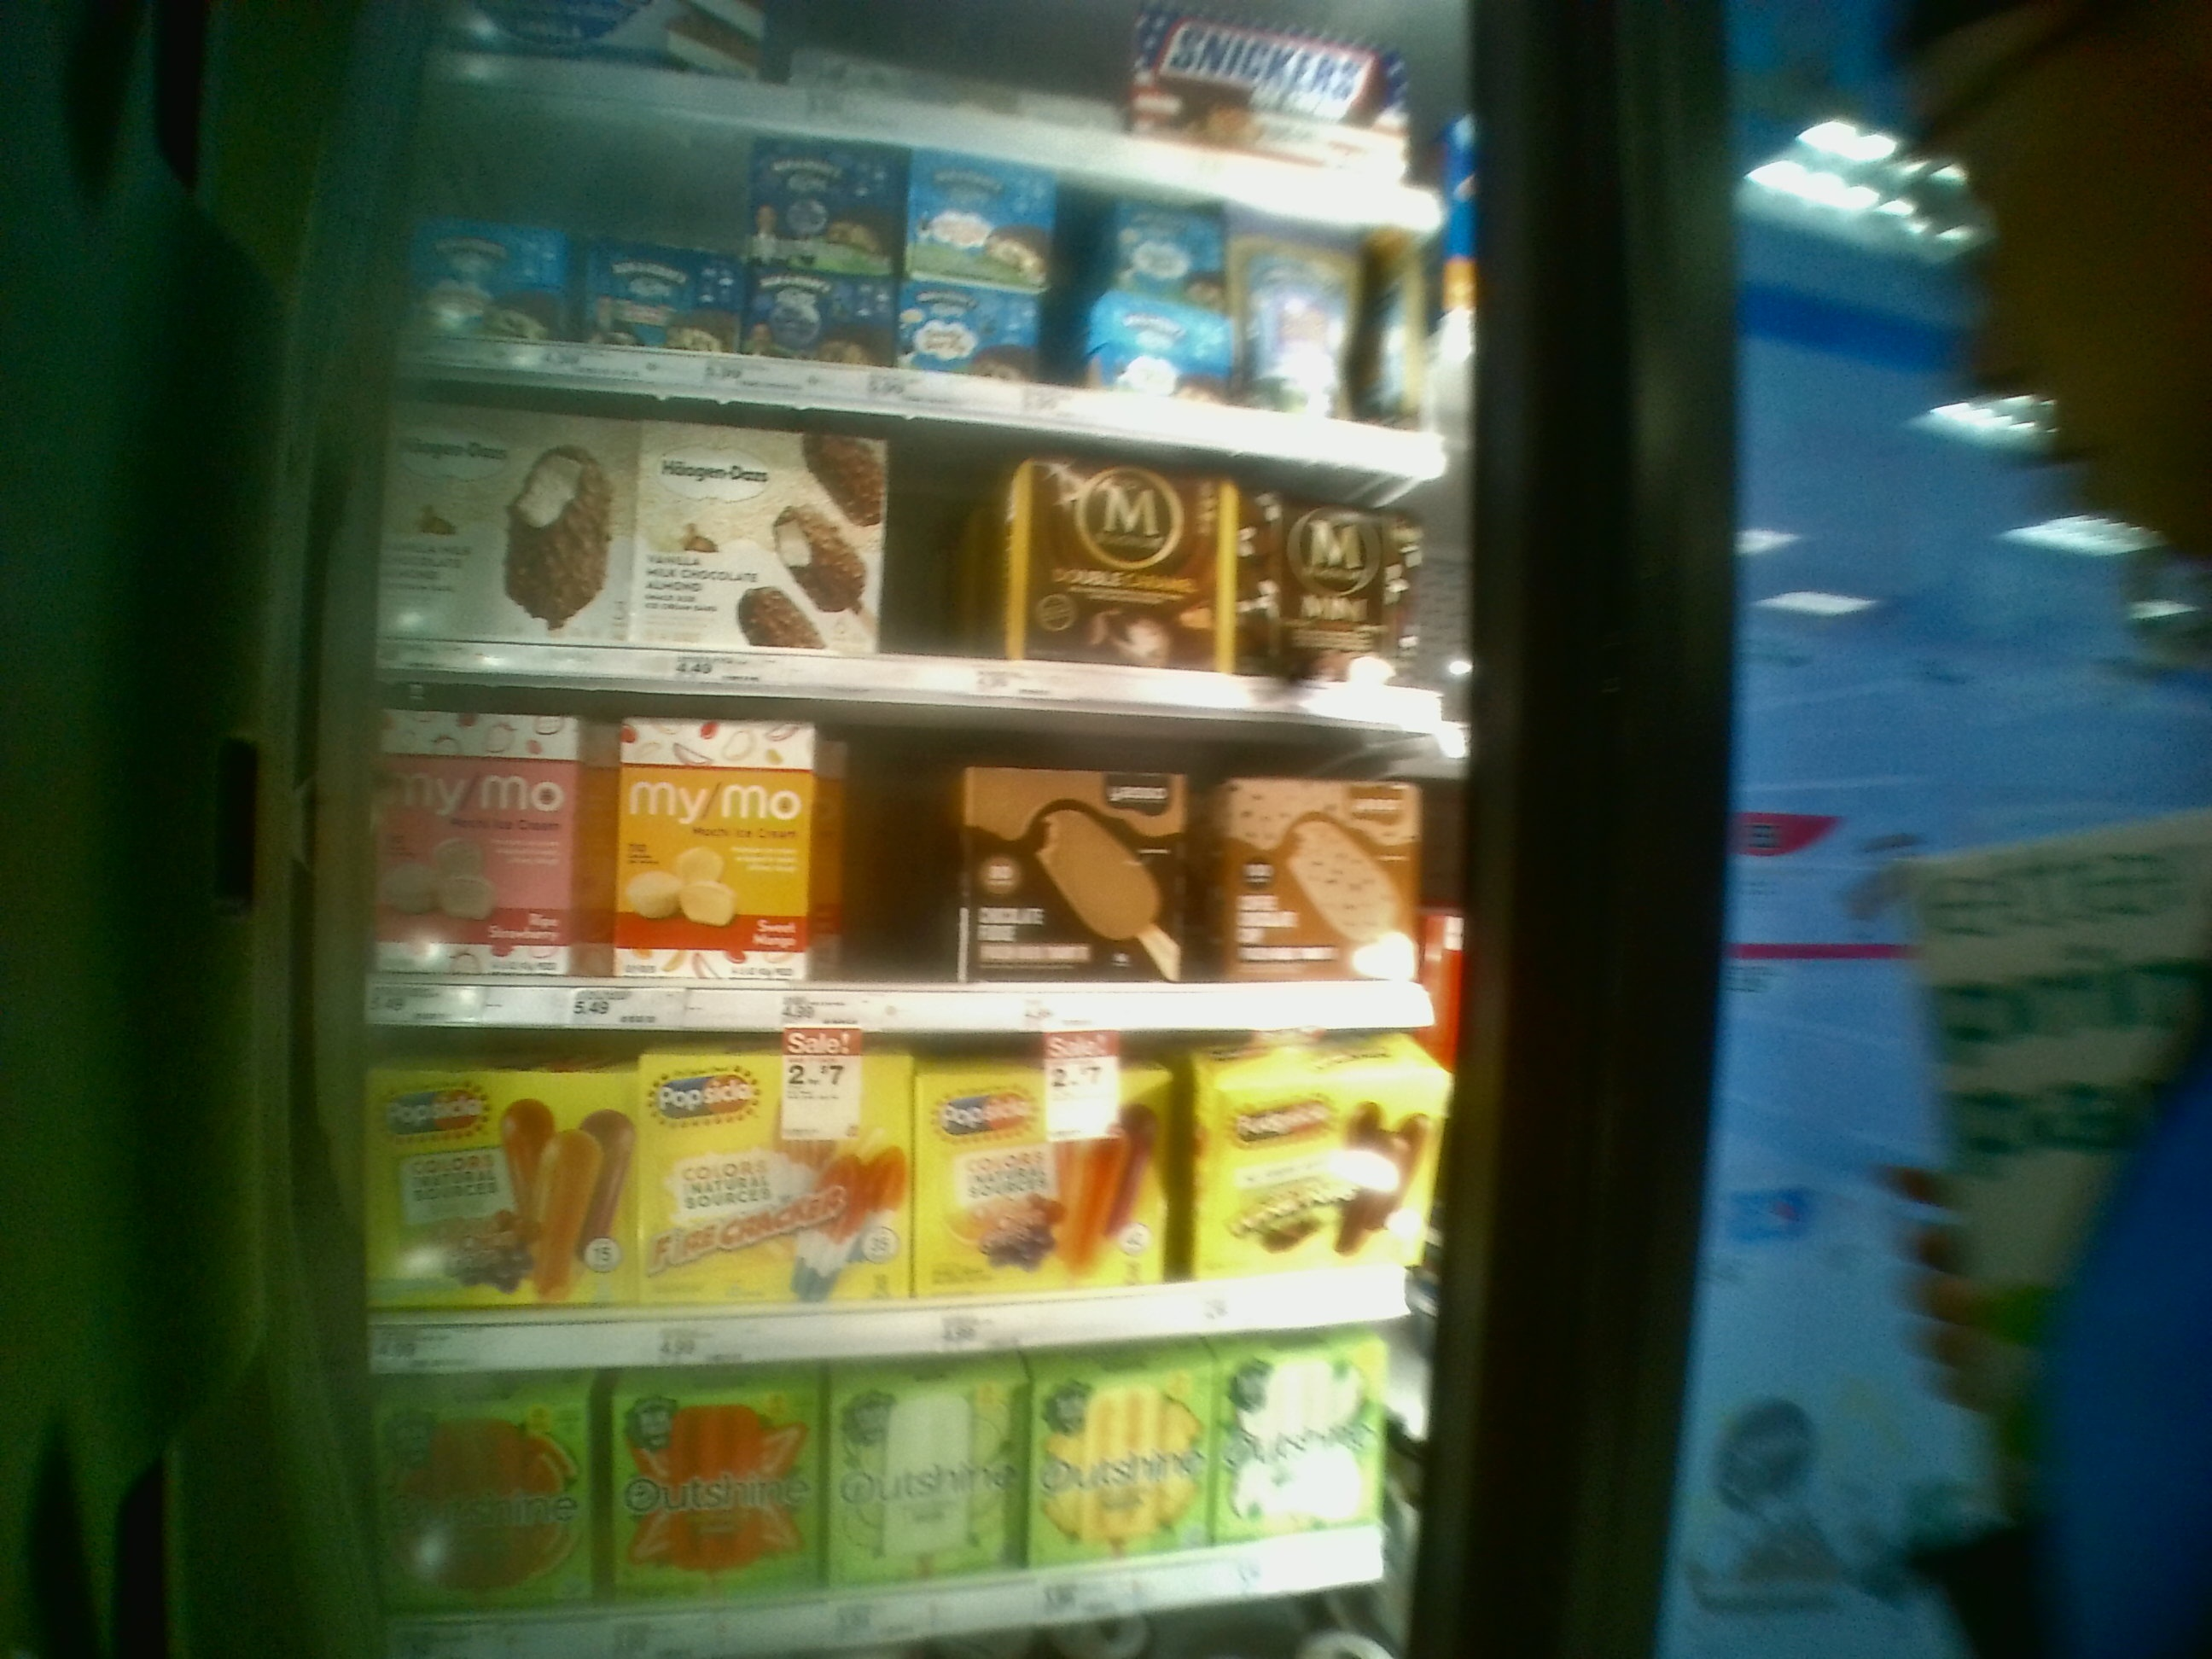ice-cream-shelf: (366, 699, 1451, 1033), (366, 1035, 1433, 1373), (369, 385, 1470, 706)
